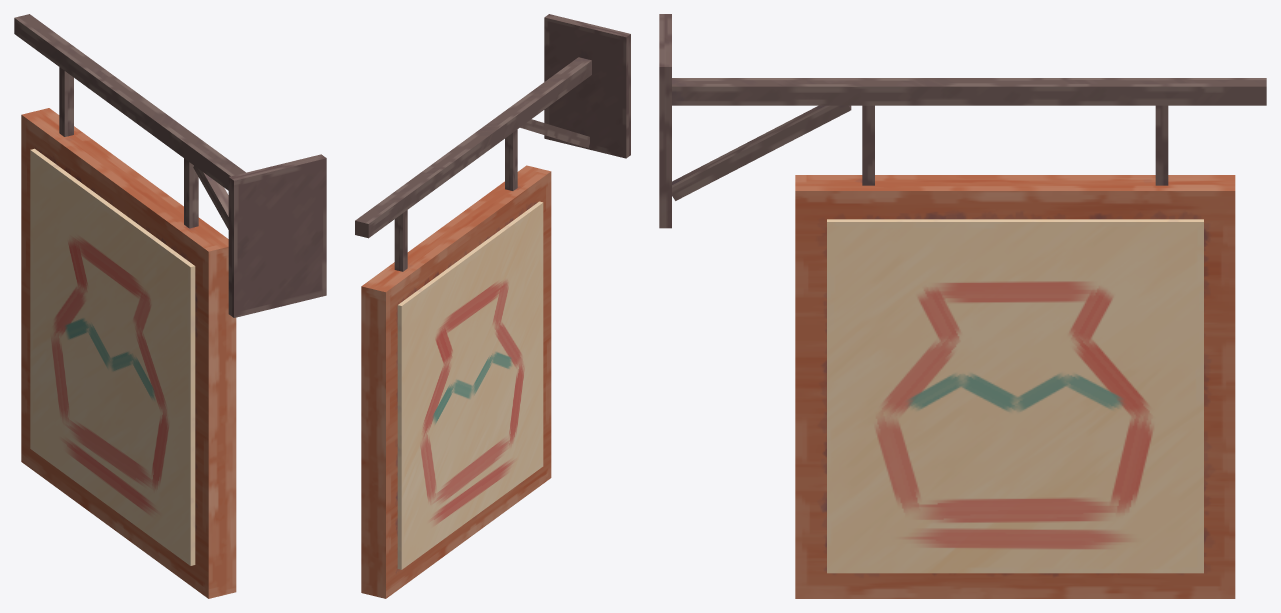
File: sign_pot_low.fbx
3 views of the same model, side by side, from view 1: azimuth 30°, elevation 25°; view 2: azimuth 150°, elevation 25°; view 3: azimuth 270°, elevation 25° (orthographic). The views are drawn at different scales.
Parts seen in each view (by area): view 1: sign_pot; view 2: sign_pot; view 3: sign_pot.
Part boxes in pixels (bbox=[...]): sign_pot: bbox=[14, 14, 326, 598]; sign_pot: bbox=[355, 14, 630, 598]; sign_pot: bbox=[659, 14, 1266, 598].
Size of the model in its own units: 0.6 by 2.9 by 2.9.
Materials: 1 (1 with a texture image).
